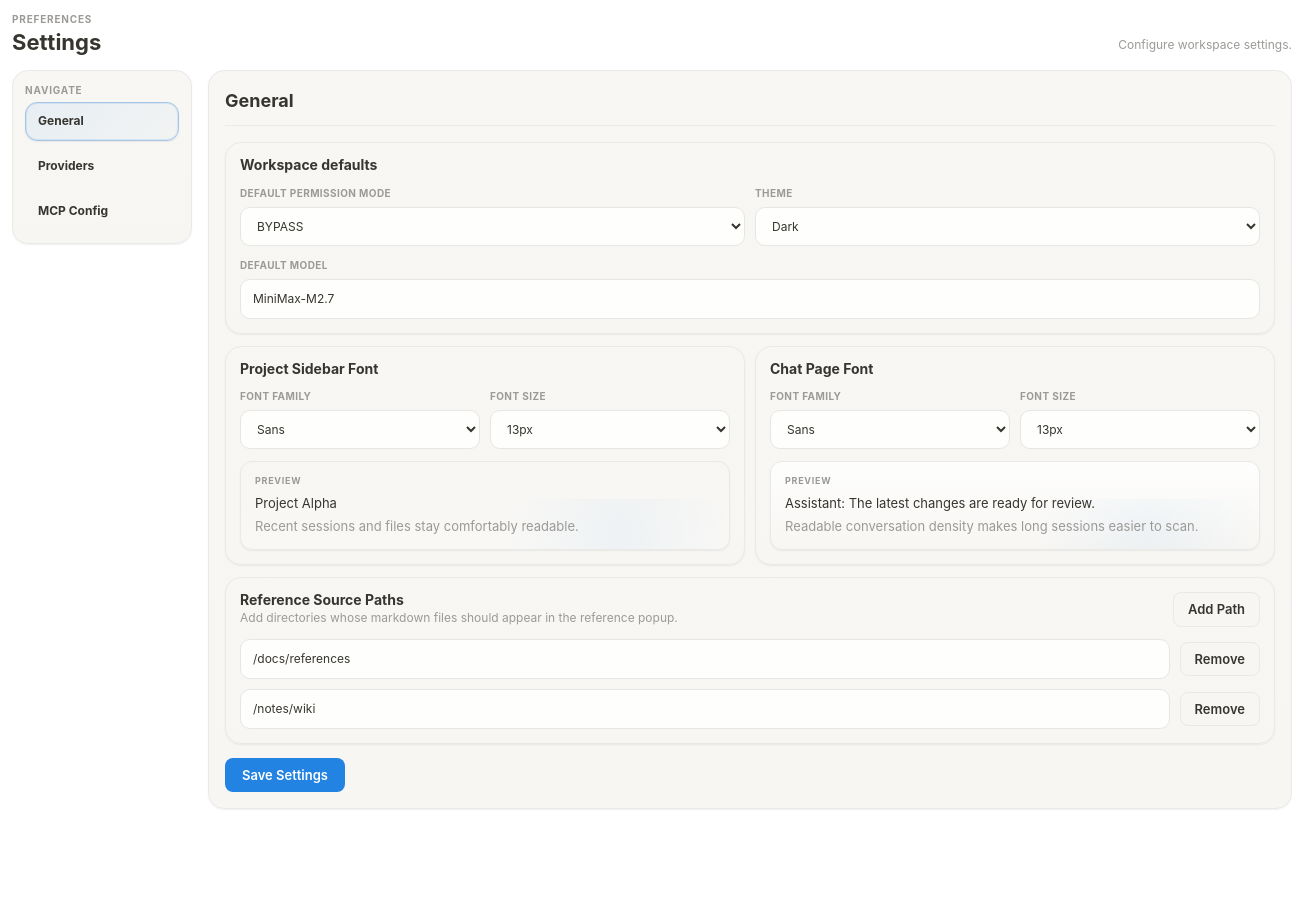
Test case: SettingsPage › removes a reference source path before saving
Expected: the form with test id "settings-form" is shown, top-left (225, 142), bottom-right (1275, 792)
Click the button with test id "remove-reference-source-path-btn-0". click: {"x": 1220, "y": 659}
box: top-left (1180, 642), bottom-right (1260, 676)
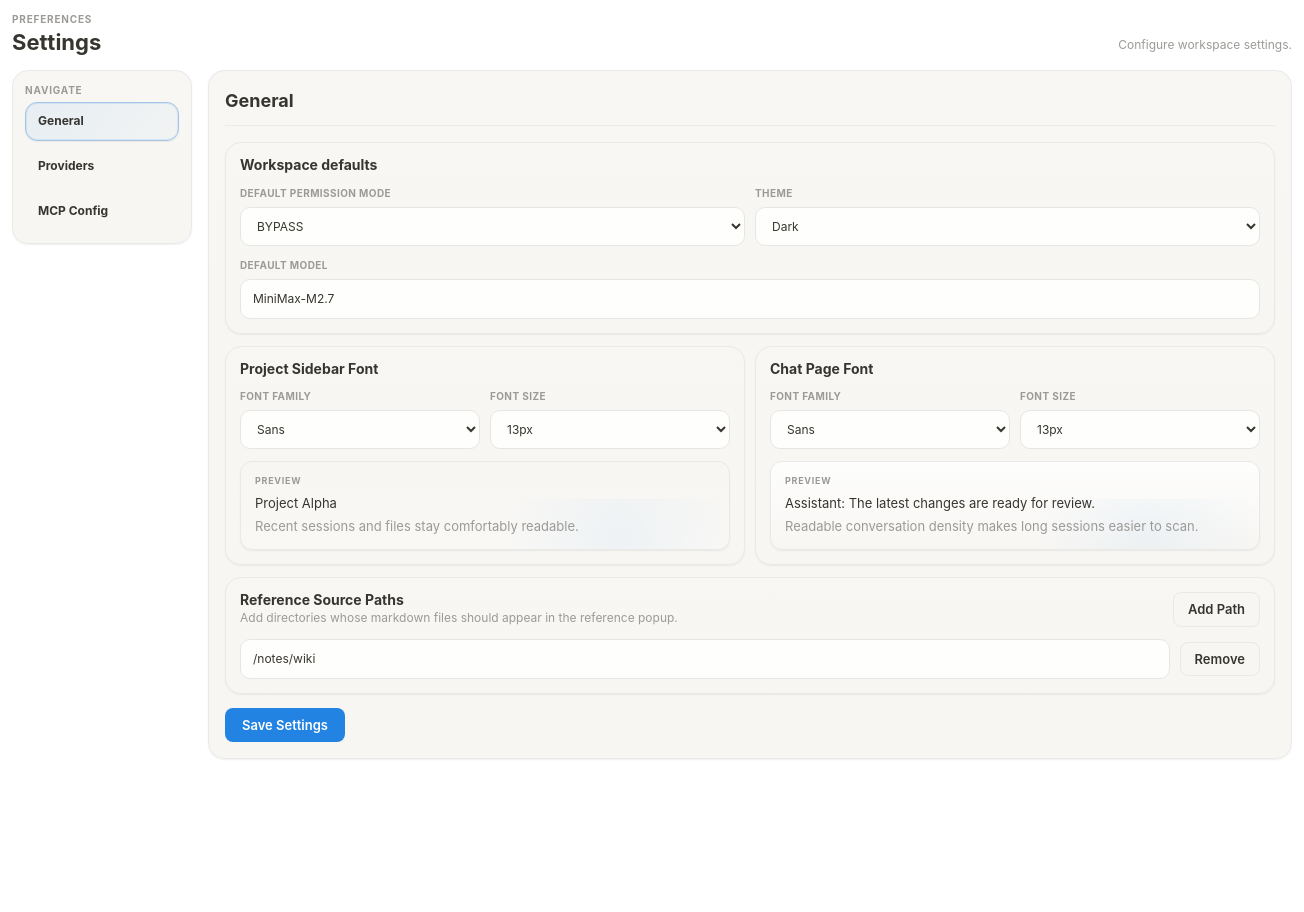
Expected: the field with test id "reference-source-path-input-0" holds "/notes/wiki", top-left (240, 639), bottom-right (1170, 679)
